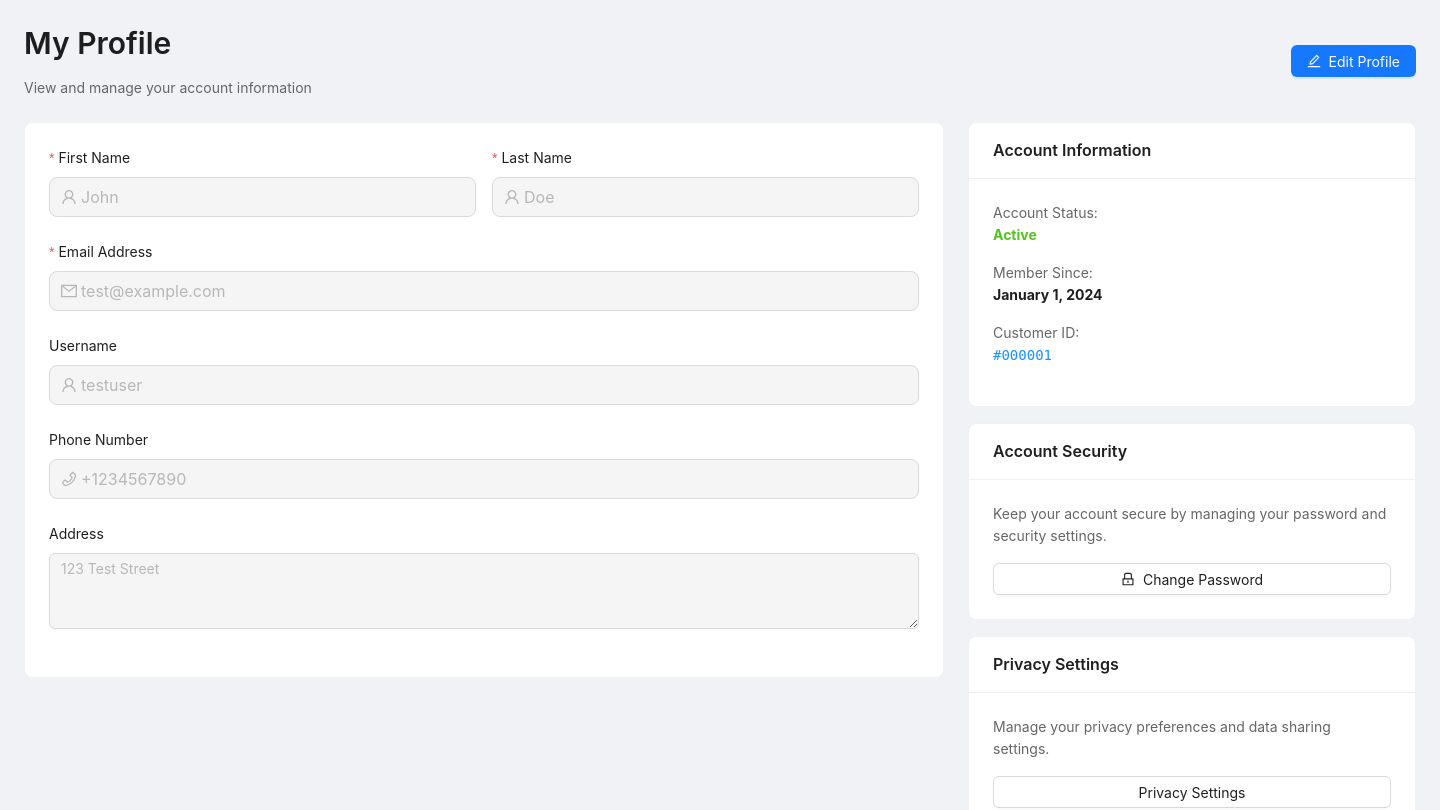
Test: Profile Update Functionality › CustomerProfilePage › enables editing when edit button is clicked
Expected: the text "Edit Profile" is shown, 1329,52 -> 1400,70
Click the button "Edit Profile": (1353, 61) 1291,45 -> 1416,77
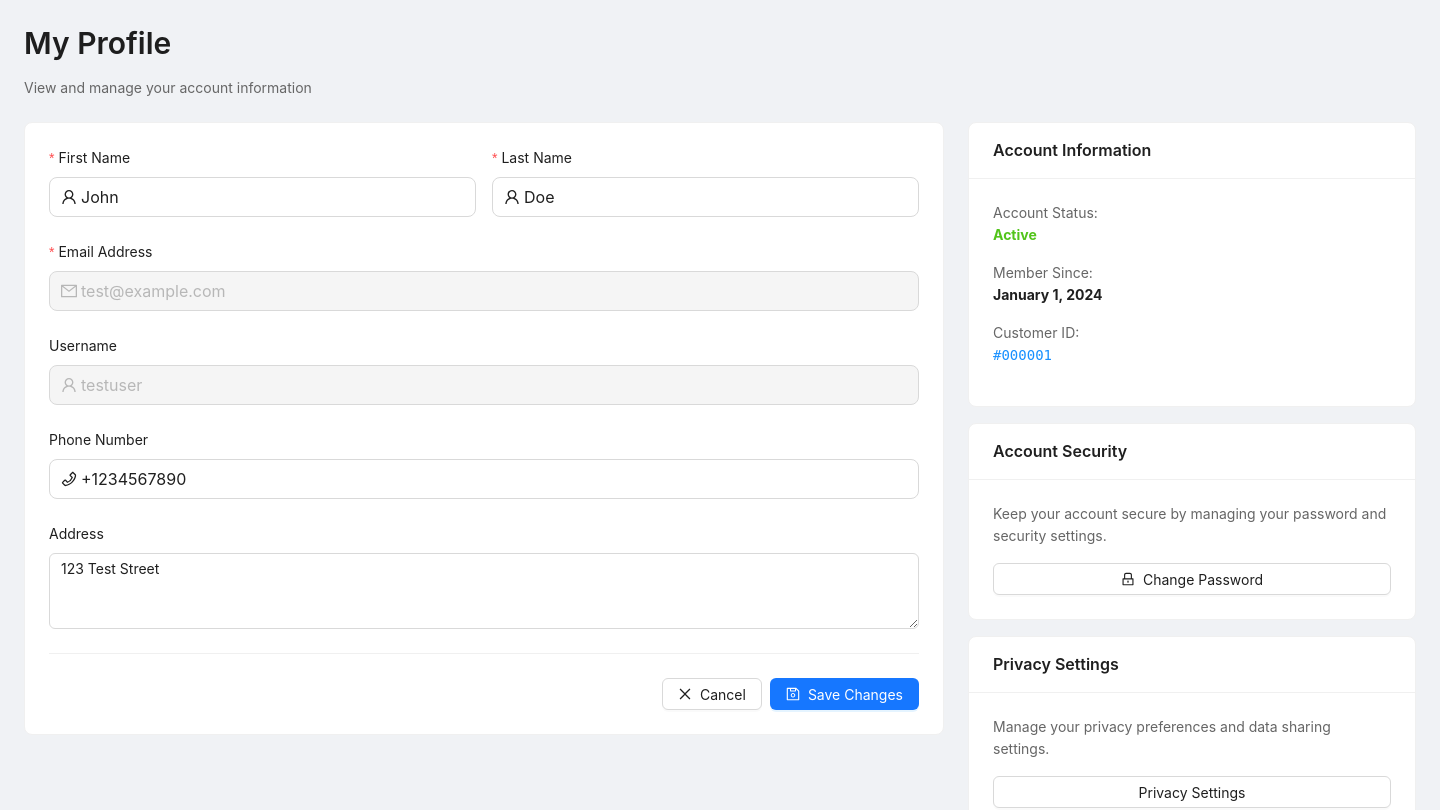
Result: the field showing "John" is enabled at 81,185 -> 464,209
